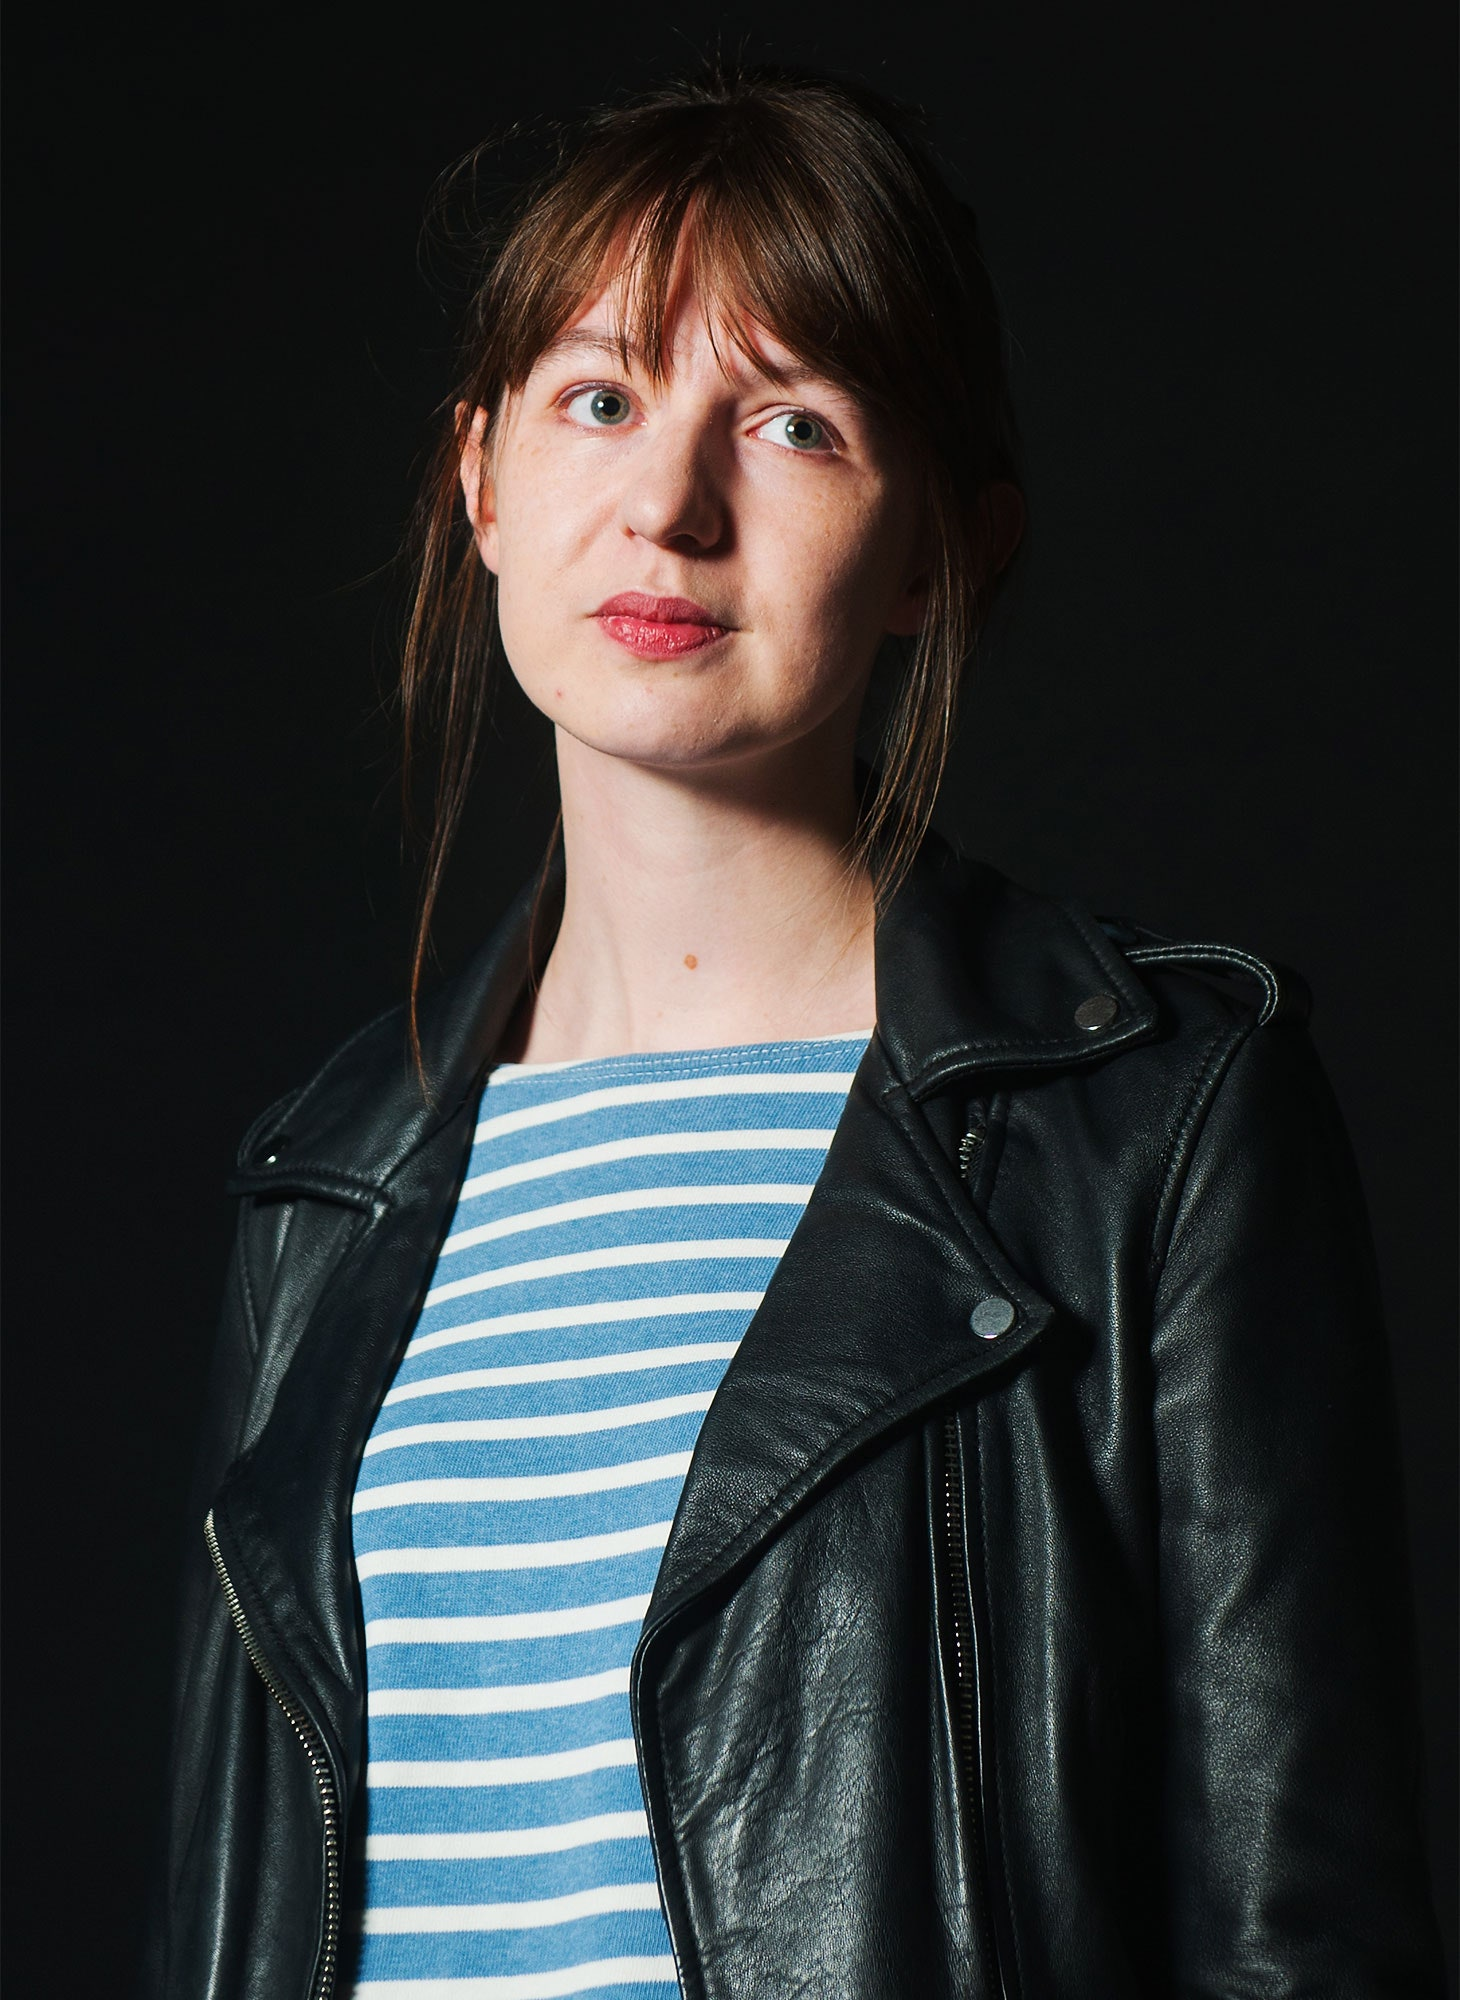person: (130, 18, 1420, 2000)
